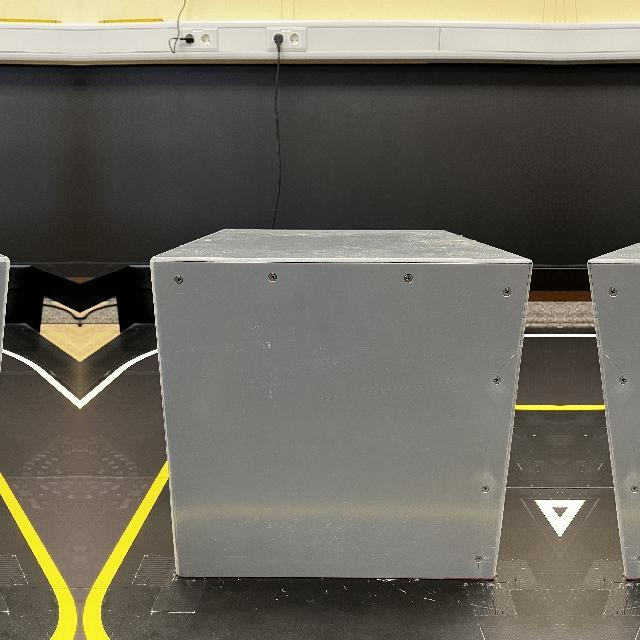obstacle: (153, 232, 531, 580), (589, 232, 640, 579), (0, 232, 7, 579)
